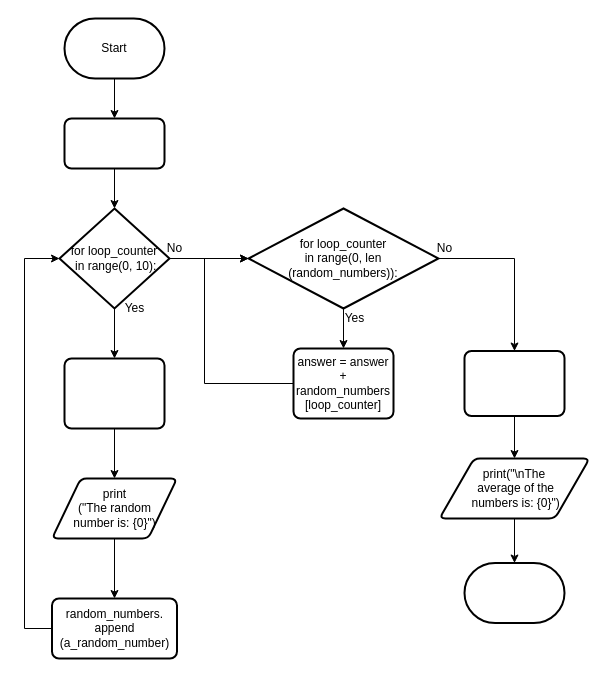
The diagram is 608 pixels wide and 676 high, and some of its shapes have lost their labels. The centre of each missing label's shape, as x and y in pixels:
"a_random_number = random.randint(1, 100)" belongs at point 114,393.
"average = answer / len(random_ numbers)" belongs at point 514,383.
"random_numbers = [ ]" belongs at point 114,143.
"Stop" belongs at point 514,593.
